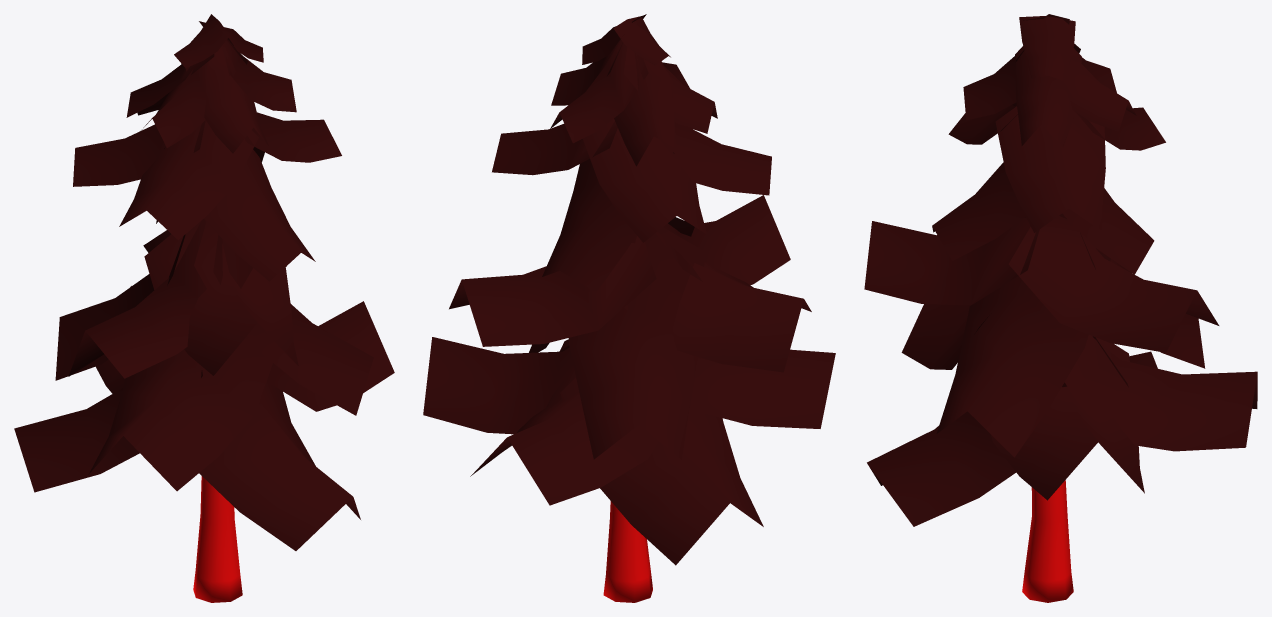
The model's file is Small_Pine_Tree.fbx.
3 renders of one model, left to right at view 1: azimuth 30°, elevation 25°; view 2: azimuth 150°, elevation 25°; view 3: azimuth 270°, elevation 25°, orthographic.
Visible parts, largest first — view 1: SM_Tree_Pine_Small_02; view 2: SM_Tree_Pine_Small_02; view 3: SM_Tree_Pine_Small_02.
Part boxes in pixels (bbox=[...]): SM_Tree_Pine_Small_02: bbox=[14, 14, 394, 602]; SM_Tree_Pine_Small_02: bbox=[423, 14, 835, 602]; SM_Tree_Pine_Small_02: bbox=[864, 14, 1257, 602].
Bounding box in the file's own units: 191 × 310 × 191.
